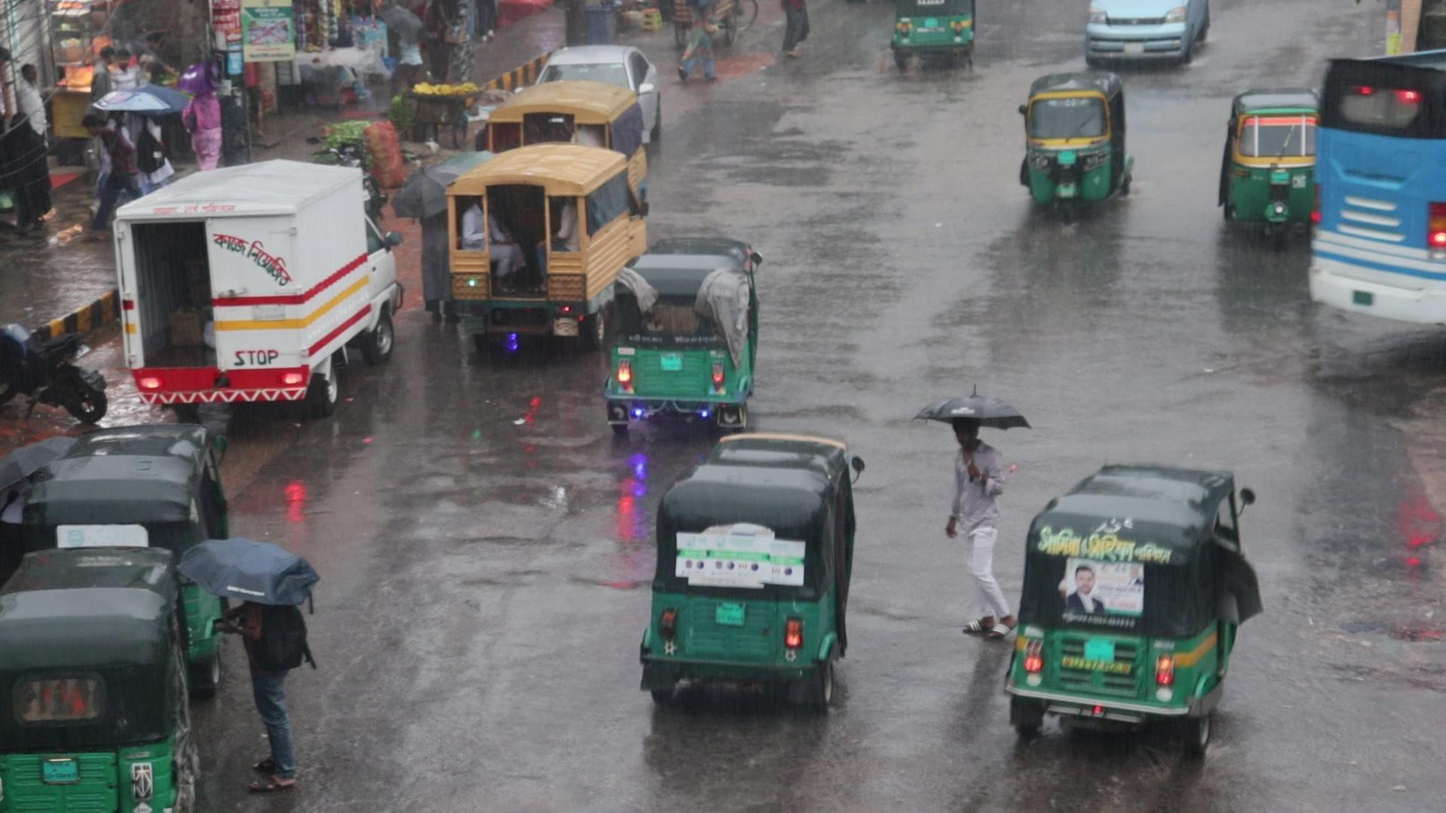Truck: (437, 133, 650, 362)
